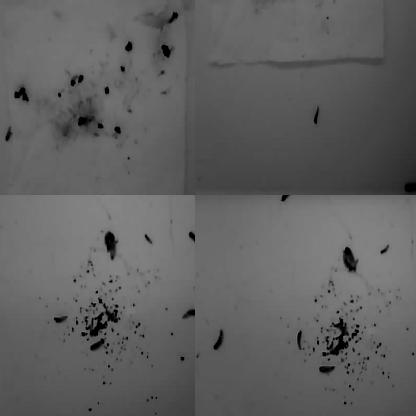PtecticusTenebrifer: (212, 328, 226, 352), (346, 247, 358, 272), (342, 250, 352, 272), (89, 339, 107, 351), (318, 364, 337, 374), (312, 106, 320, 127), (181, 307, 195, 319), (187, 231, 195, 251), (404, 180, 416, 193), (110, 234, 116, 260), (100, 0, 111, 12), (219, 195, 237, 202), (0, 306, 5, 330), (296, 330, 302, 350), (280, 195, 293, 204), (106, 230, 111, 252), (382, 244, 390, 257), (44, 195, 57, 202), (0, 115, 7, 123), (0, 99, 3, 116), (0, 0, 8, 6), (0, 195, 4, 207)
